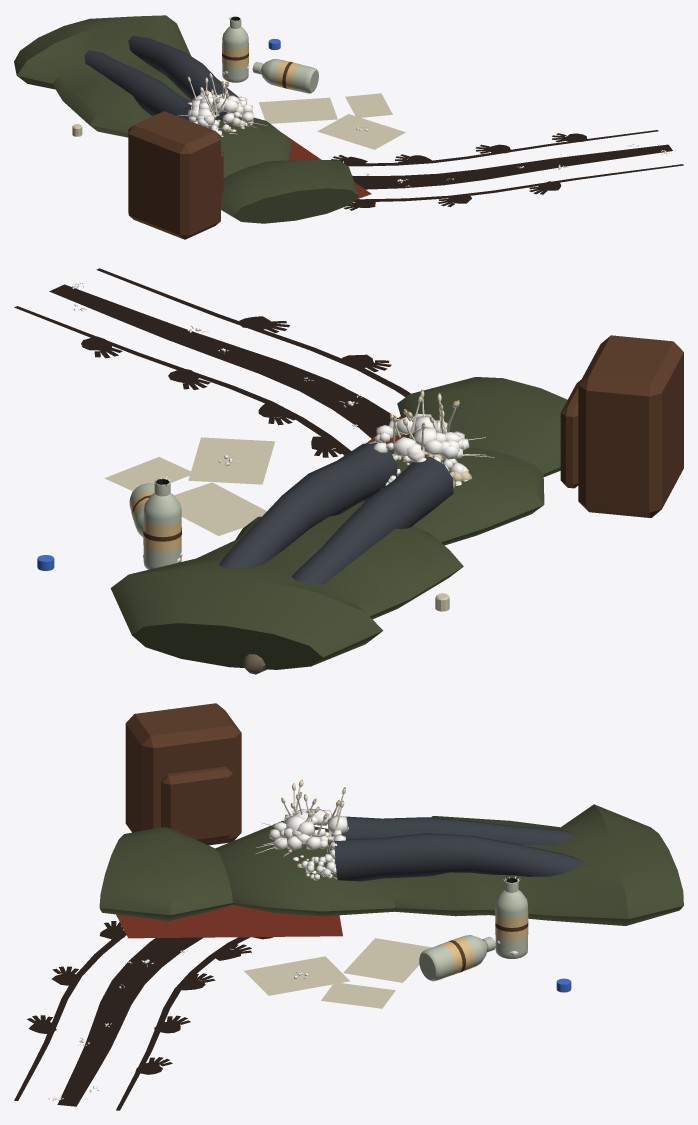
File: fungus_camp.glb
The picture shows the model from 3 angles, top to bottom: view 1: azimuth 30°, elevation 25°; view 2: azimuth 150°, elevation 25°; view 3: azimuth 270°, elevation 25°; orthographic projection. The views are drawn at different scales.
Visible parts, largest first — view 1: teil0, teil13, teil12, teil2, teil21, teil14, teil7, teil16, teil1, teil10; view 2: teil0, teil13, teil2, teil12, teil21, teil7, teil14, teil16, teil10; view 3: teil0, teil13, teil2, teil12, teil21, teil1, teil14, teil7, teil16, teil6, teil10.
Boxes of the visible parts, x1,y1,x2,y2 form: teil0: (14,15,358,223); teil13: (128,111,223,239); teil12: (331,130,683,210); teil2: (84,36,238,120); teil21: (258,93,405,149); teil14: (222,16,318,93); teil7: (188,91,666,185); teil16: (222,43,300,90); teil1: (281,132,371,199); teil10: (188,74,229,115); teil0: (110,377,567,669); teil13: (560,335,683,517); teil2: (219,442,453,584); teil12: (14,268,410,457); teil21: (104,437,275,535); teil7: (72,284,469,486); teil14: (129,478,181,569); teil16: (131,491,181,551); teil10: (390,391,459,450); teil0: (99,804,683,925); teil13: (125,703,241,845); teil2: (334,816,583,881); teil12: (14,921,273,1110); teil21: (244,938,431,1008); teil1: (116,905,342,938); teil14: (419,877,527,981); teil7: (52,808,348,1099); teil16: (440,910,528,975); teil6: (48,814,334,1100); teil10: (281,780,345,834).
Bounding box in the file's own units: 2.27 × 0.4378 × 2.18.
